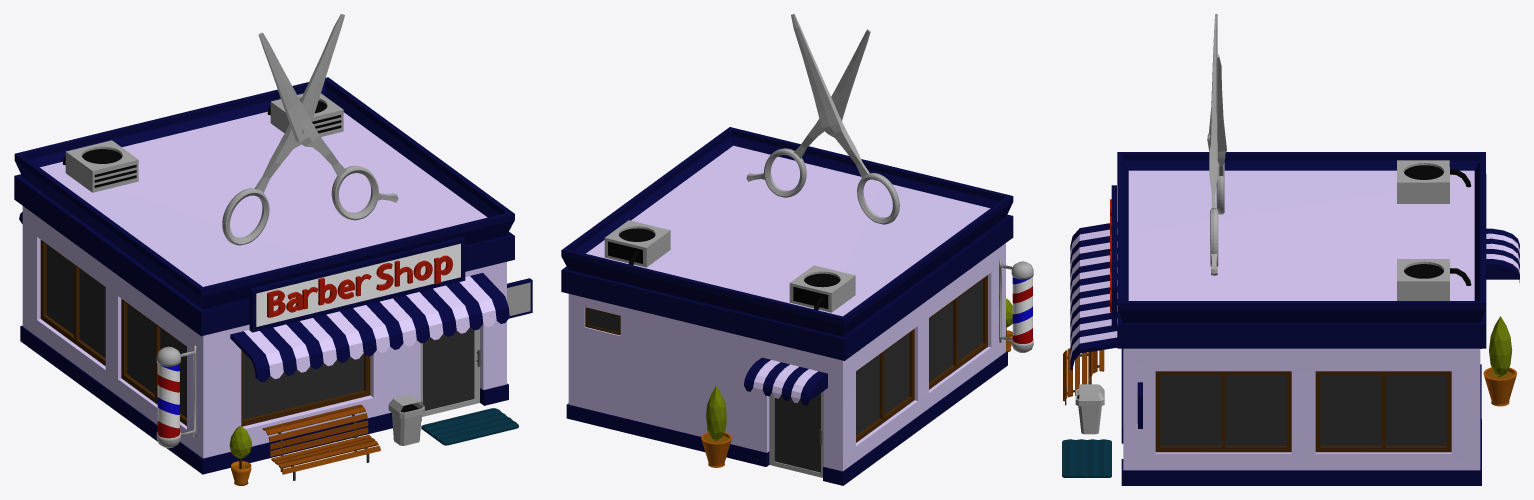
File: barber_shop.fbx
3 renders of one model, left to right at view 1: azimuth 30°, elevation 25°; view 2: azimuth 150°, elevation 25°; view 3: azimuth 270°, elevation 25°, orthographic. The views are drawn at different scales.
Visible parts, largest first — view 1: barber_shop; view 2: barber_shop; view 3: barber_shop.
Boxes of the visible parts, x1,y1,x2,y2 form: barber_shop: (14,14,532,485); barber_shop: (561,14,1033,485); barber_shop: (1062,14,1519,485).
Bounding box in the file's own units: 496 × 494 × 533.
4 materials, 1 textured.
